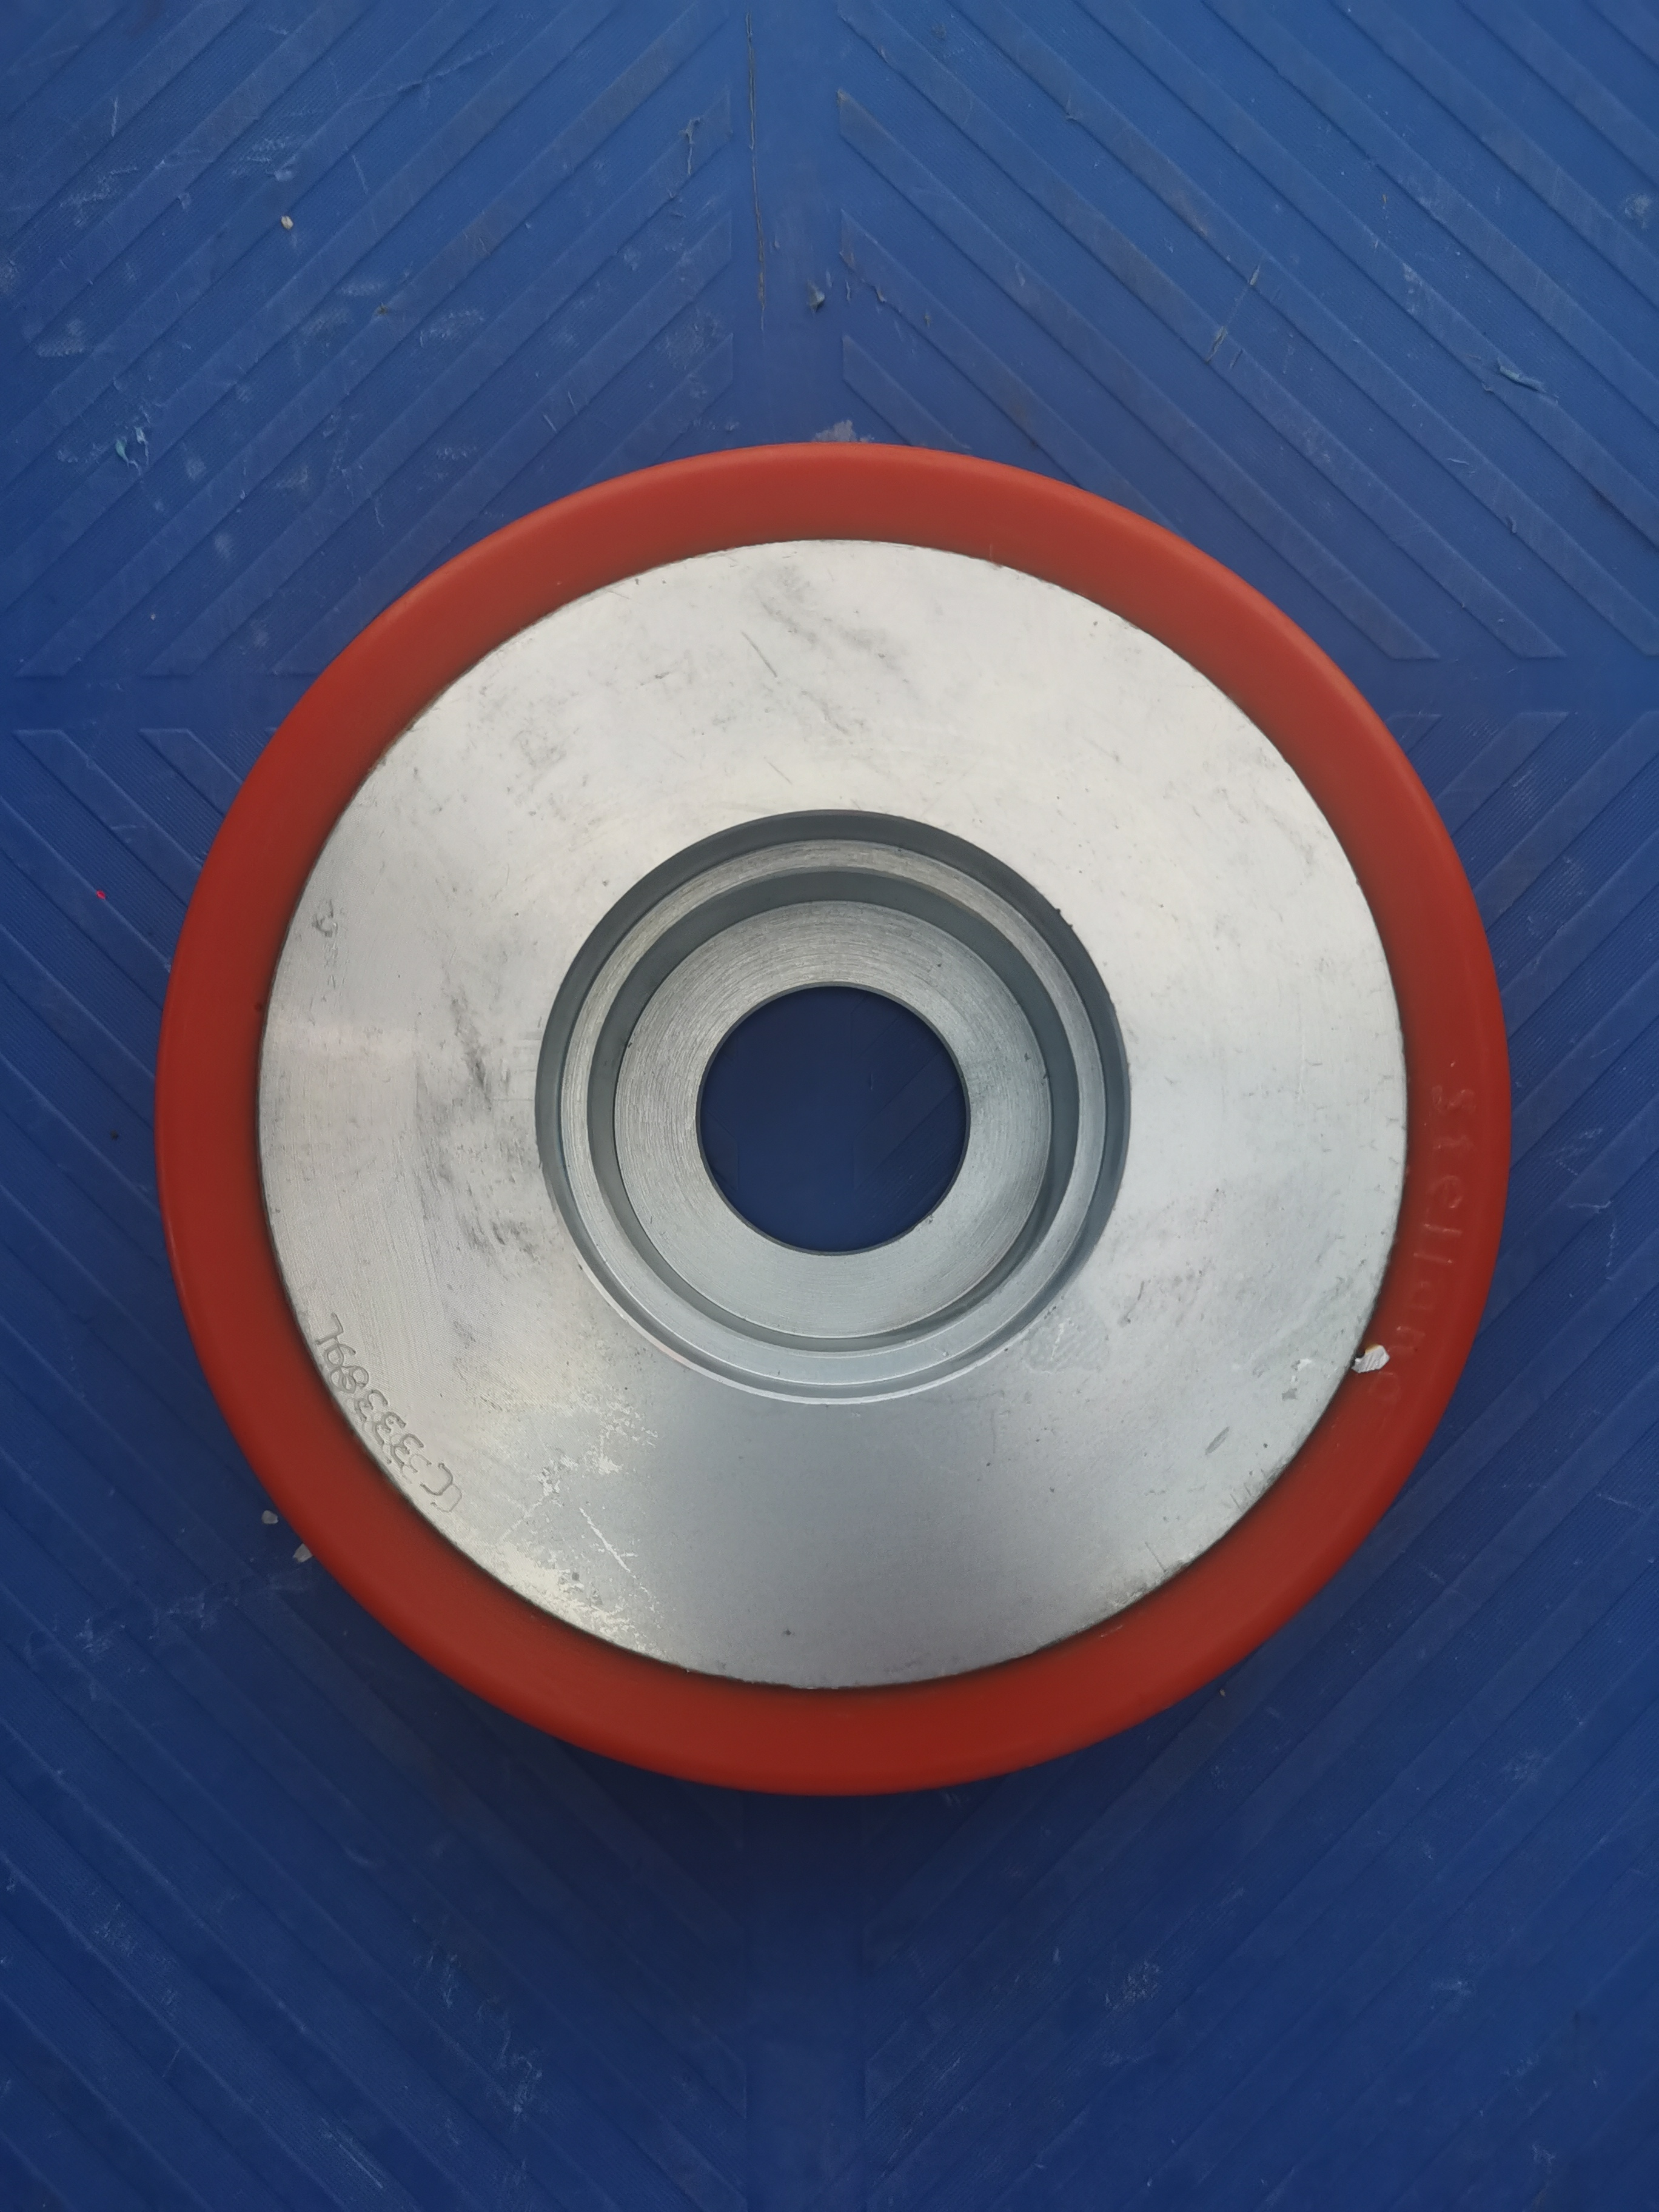good_wheel: (44, 437, 1579, 1806)
